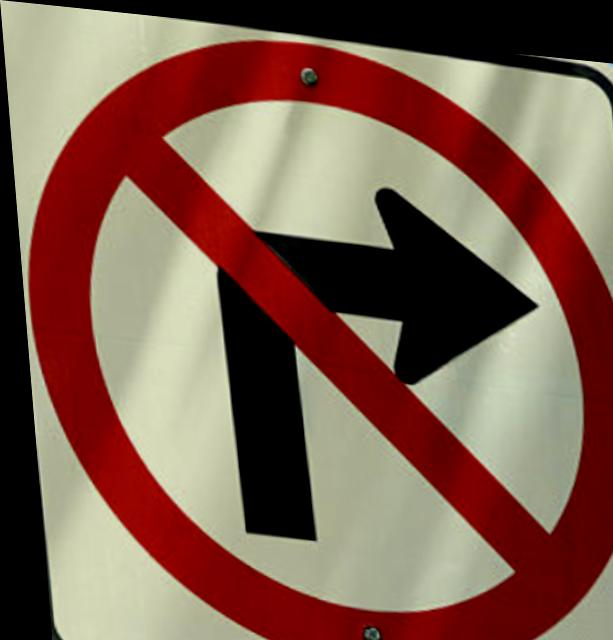not_turn_right: (17, 9, 613, 640)
